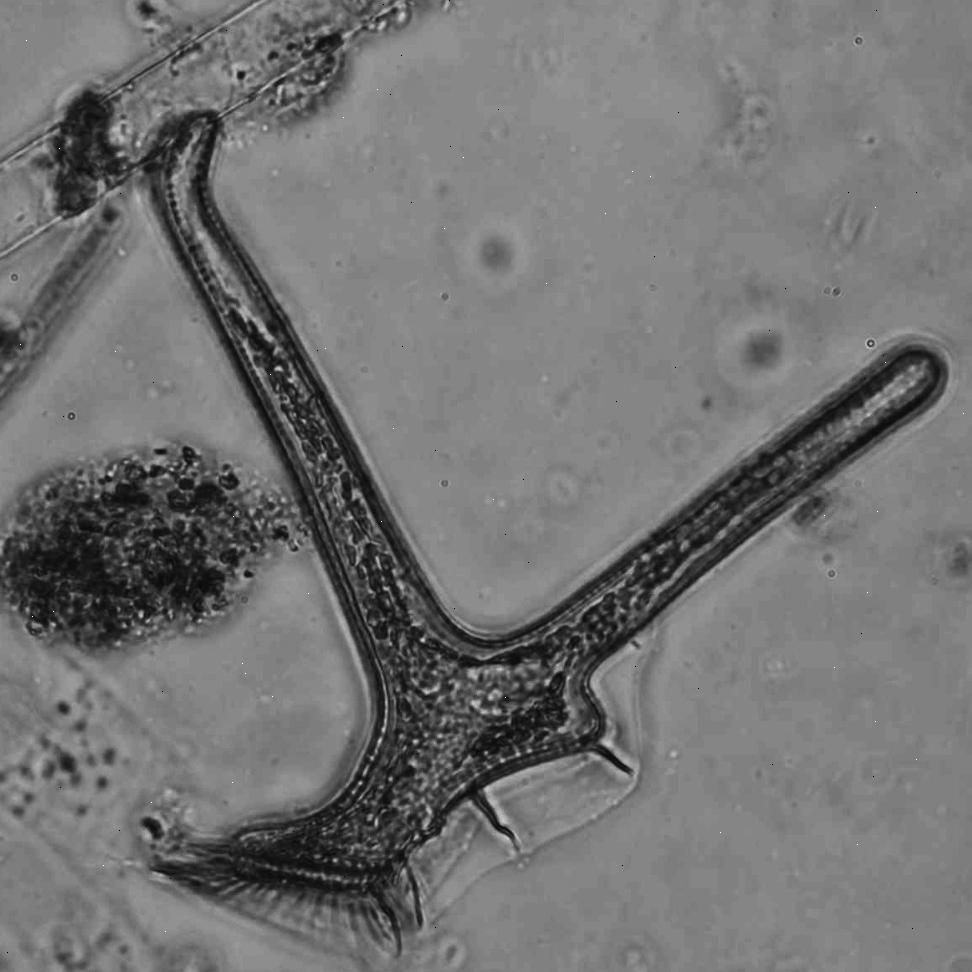dinophysis_miles: (144, 112, 937, 972)
